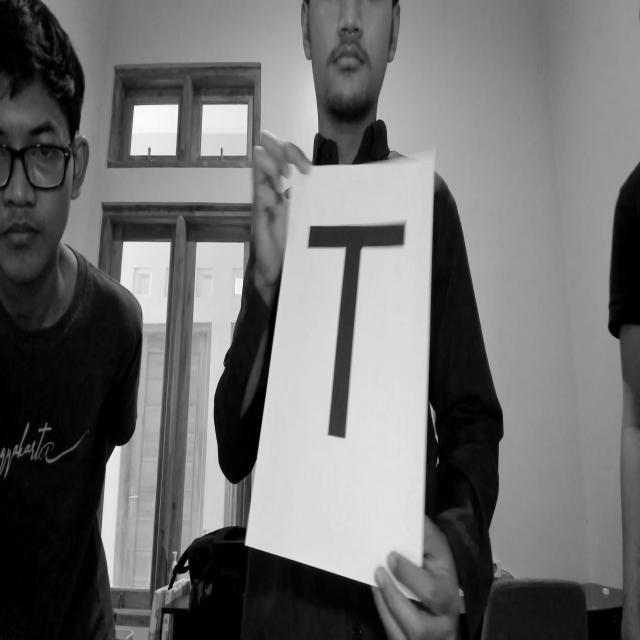t: (298, 210, 410, 453)
